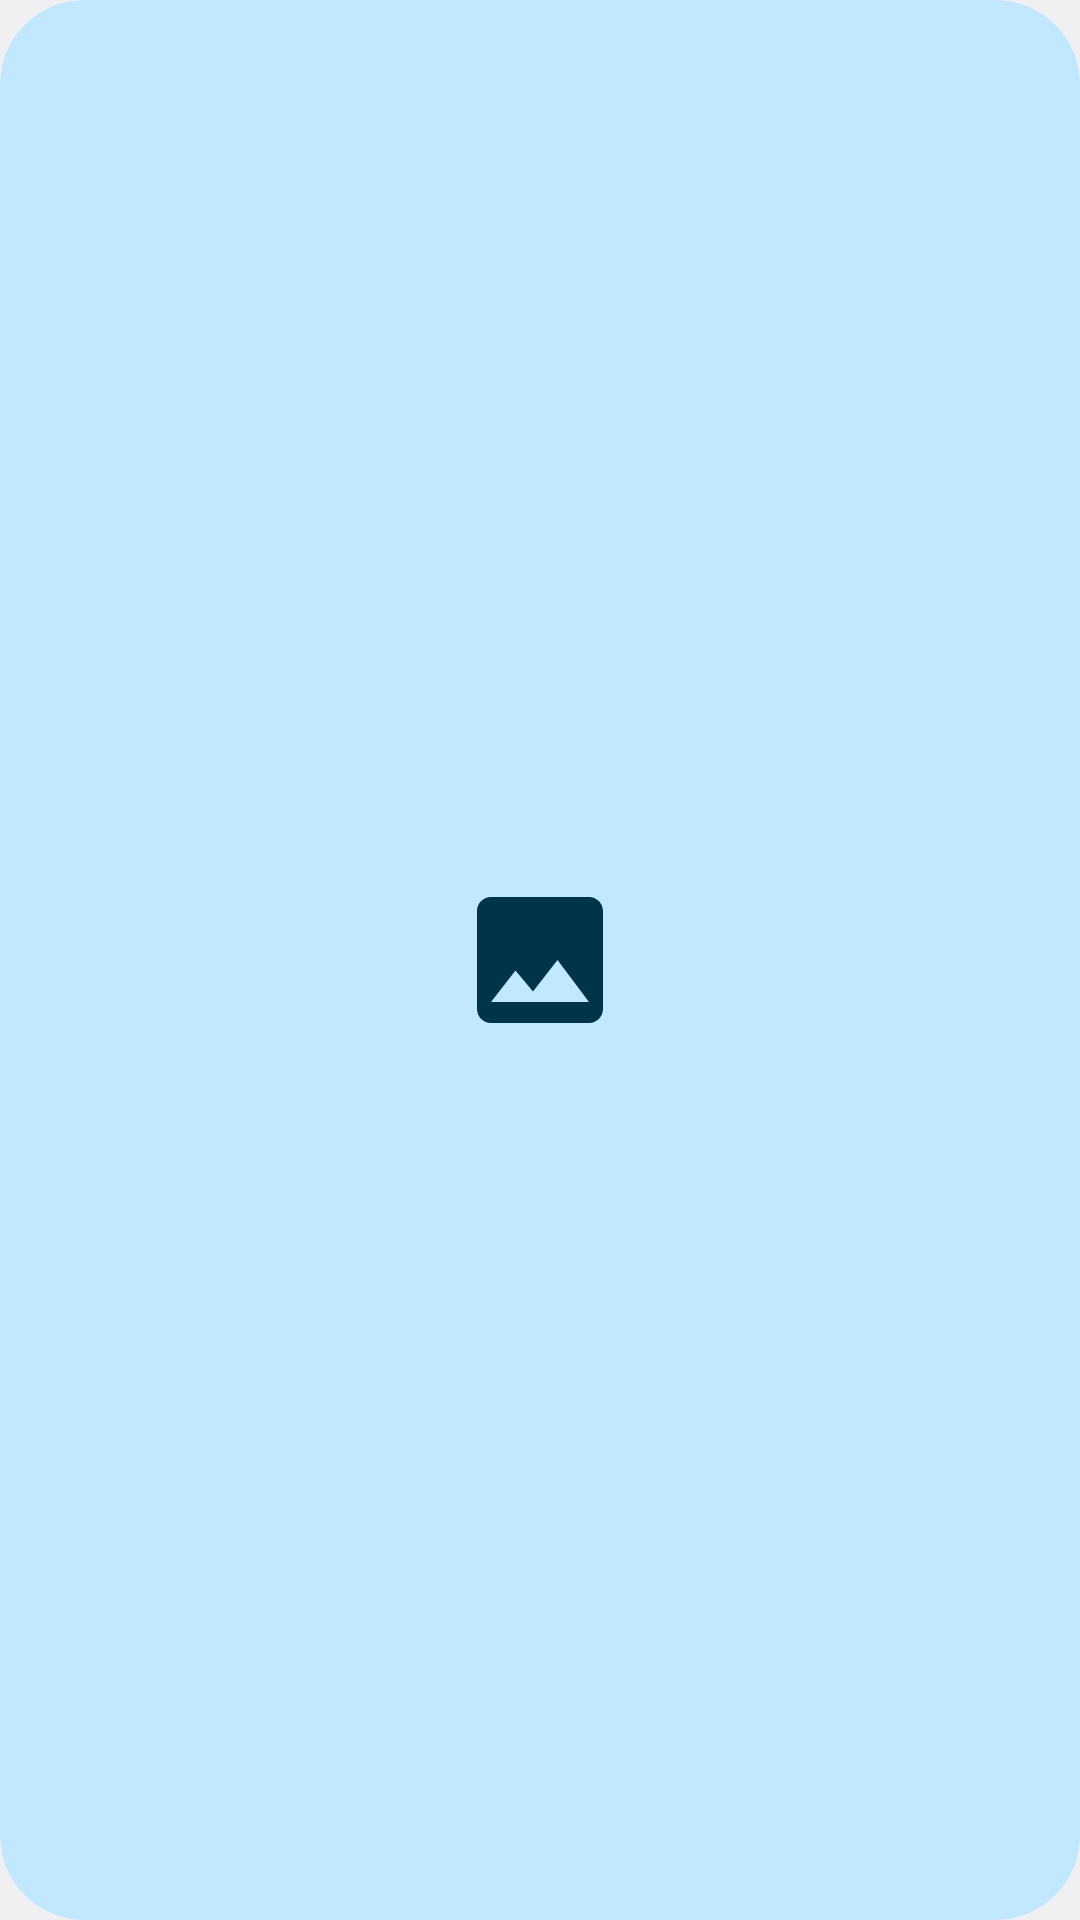

Icons on this 1080px×1920px Android screen, each with its box as (x1, y1, x2, y2):
widget photo: (477, 897, 603, 1023)
